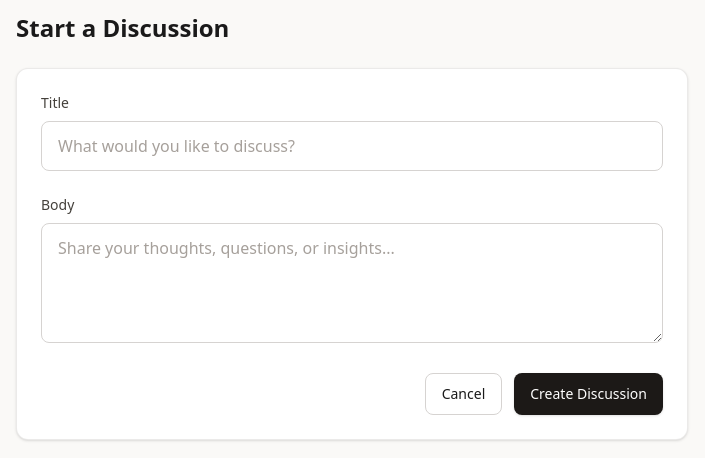
Scenario: NewDiscussionPage › shows loading state during submission
In the field with placeholder "What would you like to discuss?": point(352, 146) [41,121,663,171], type "Test"
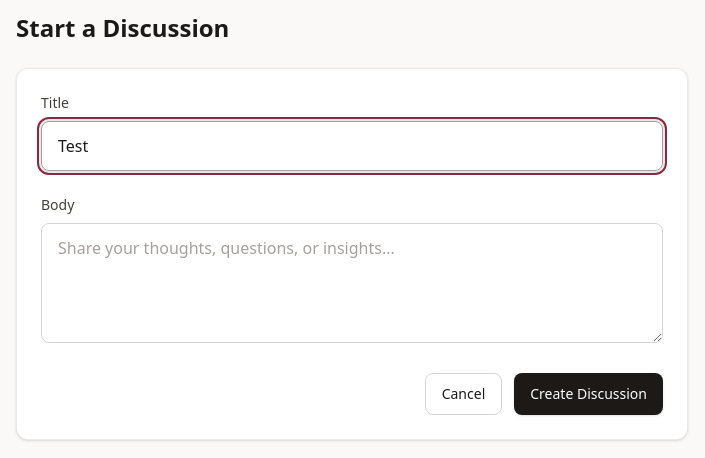
In the text box with placeholder "Share your thoughts, questions, or insights...": point(352, 283) [41,223,663,343], type "Test"
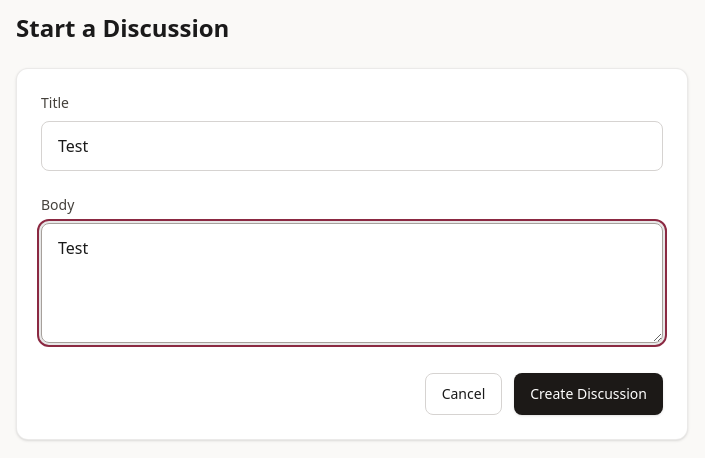
Click the button "Create Discussion": point(589, 394) [514,373,663,415]
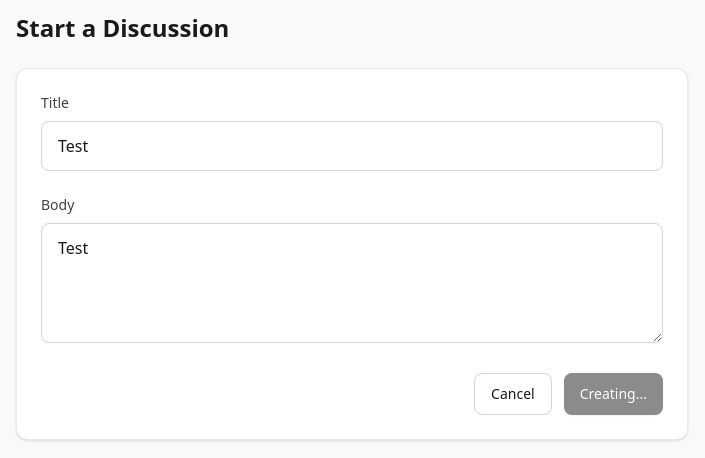
Expected: the button "Creating..." is disabled, [564,373,663,415]
